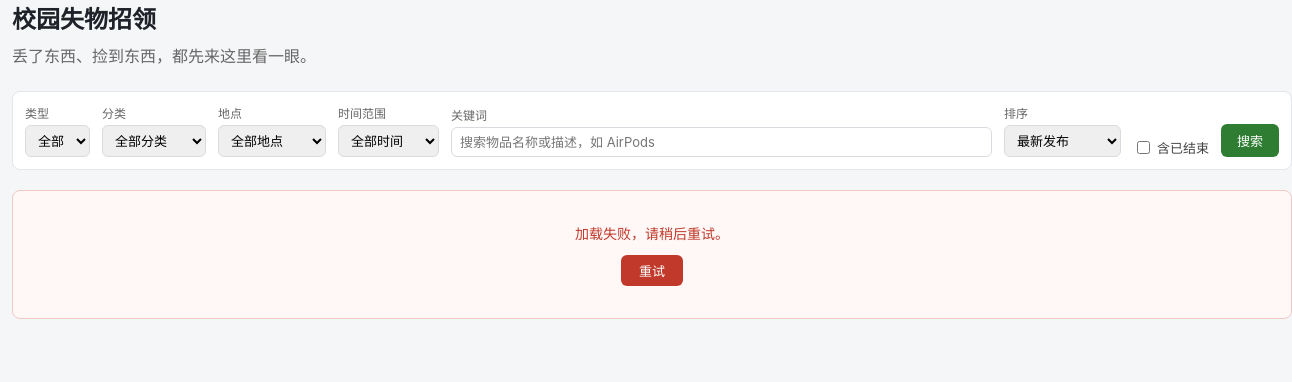
Test: HomePage › 请求失败显示错误态，点重试重新请求并渲染列表
The image size is (1292, 382).
Expected: the element with class "error-state" is shown, 12,190 -> 1291,319
Click the button with class "error-state__retry". click: [652, 270]
box: 621,255 -> 683,286
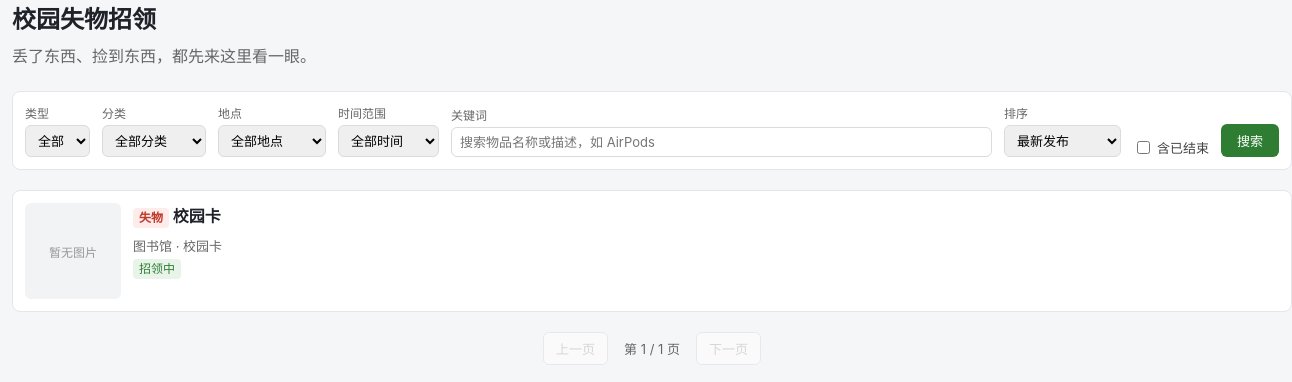
Expected: the element with class "report-card" is shown, 12,190 -> 1291,312
